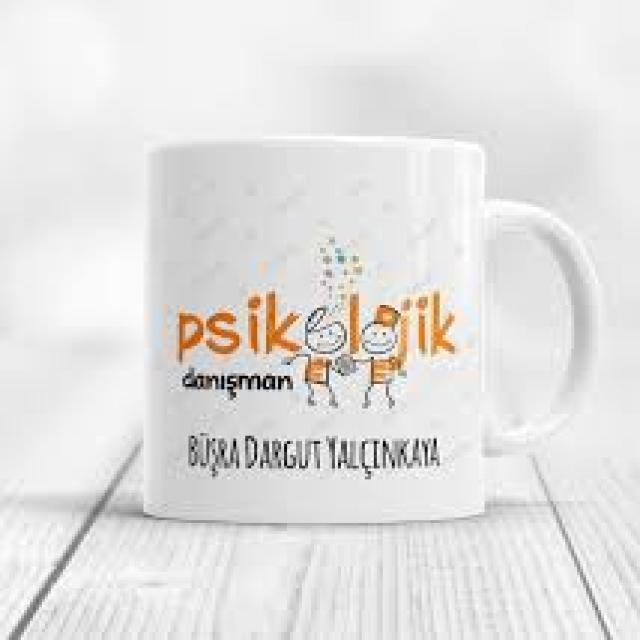taza: (143, 135, 606, 523)
